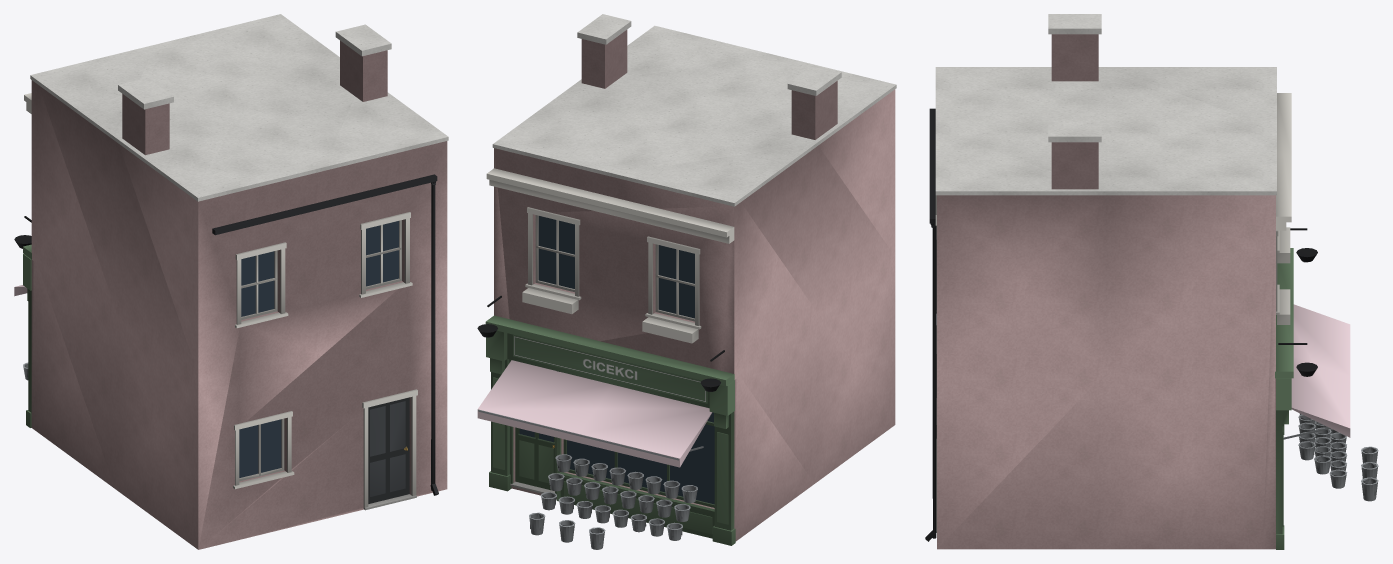
The model's file is florist_lod0.glb.
3 renders of one model, left to right at view 1: azimuth 30°, elevation 25°; view 2: azimuth 150°, elevation 25°; view 3: azimuth 270°, elevation 25°, orthographic. The views are drawn at different scales.
Parts seen in each view (by area): view 1: florist; view 2: florist; view 3: florist.
Part boxes in pixels (x1,y1,x2,y2): florist: [14, 14, 448, 549]; florist: [477, 14, 896, 549]; florist: [925, 14, 1378, 549].
Bounding box in the file's own units: 5.66 × 8.72 × 8.69.
8 materials, 6 textured.
